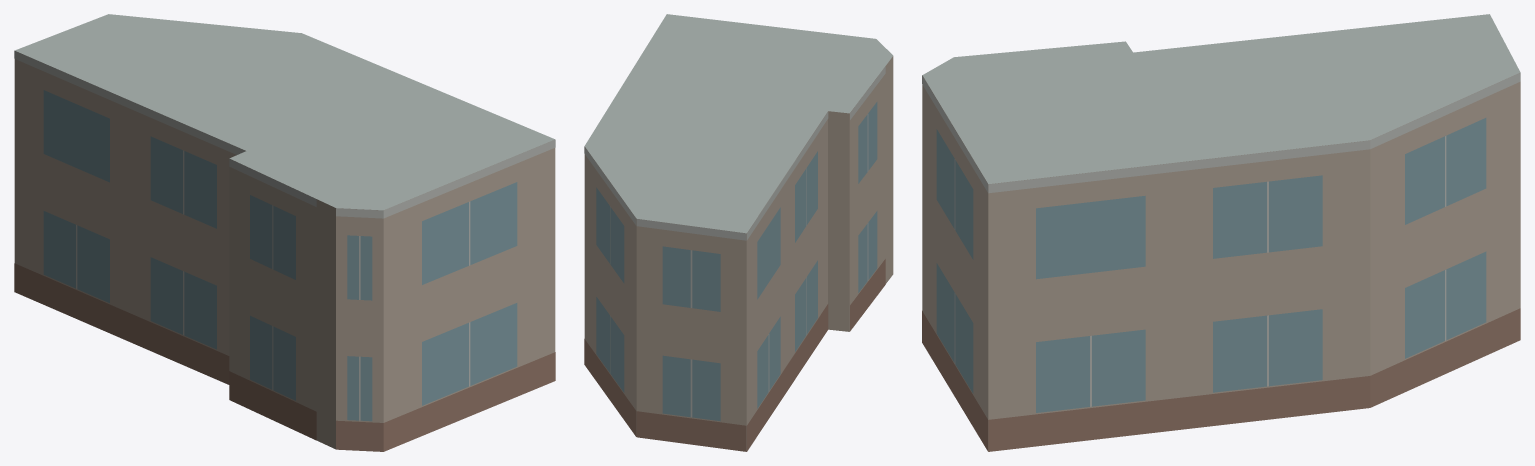
The model's file is survey-upis-32499926.glb.
The picture shows the model from 3 angles, left to right: view 1: azimuth 30°, elevation 25°; view 2: azimuth 150°, elevation 25°; view 3: azimuth 270°, elevation 25°; orthographic projection. The views are drawn at different scales.
Parts seen in each view (by area): view 1: survey-upis-32499926.tmp; view 2: survey-upis-32499926.tmp; view 3: survey-upis-32499926.tmp.
Boxes of the visible parts, x1,y1,x2,y2 form: survey-upis-32499926.tmp: [14, 14, 555, 451]; survey-upis-32499926.tmp: [584, 14, 893, 451]; survey-upis-32499926.tmp: [922, 14, 1520, 451].
Size of the model in its own units: 9.83 by 7.2 by 14.6.
